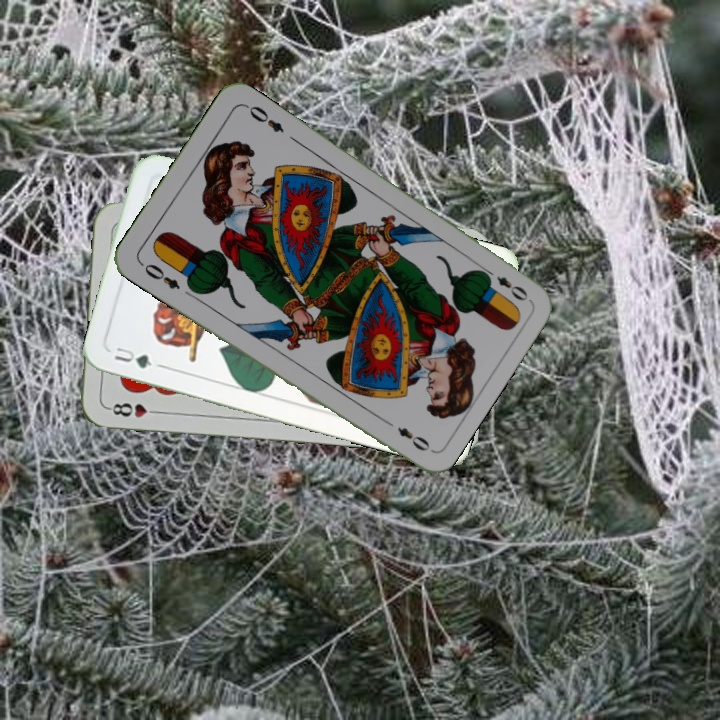EO: (479, 264, 531, 304), (136, 258, 183, 292)
GU: (110, 342, 155, 371)
H8: (104, 399, 163, 420)
